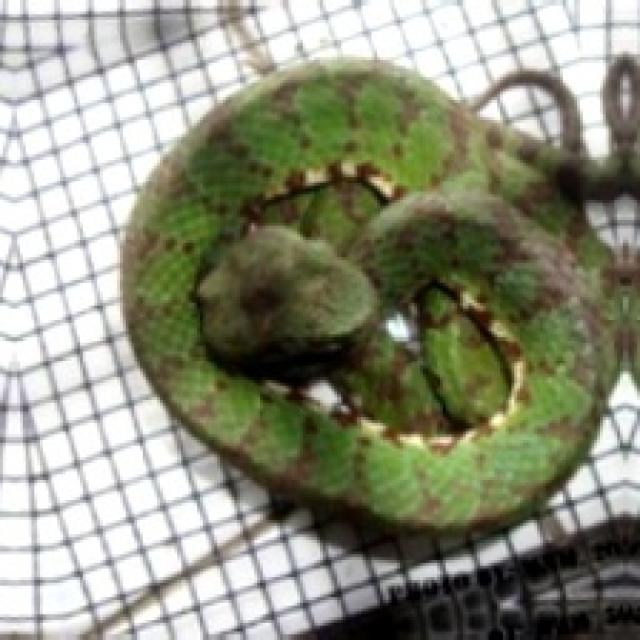philippine pitviper: (123, 57, 637, 534)
